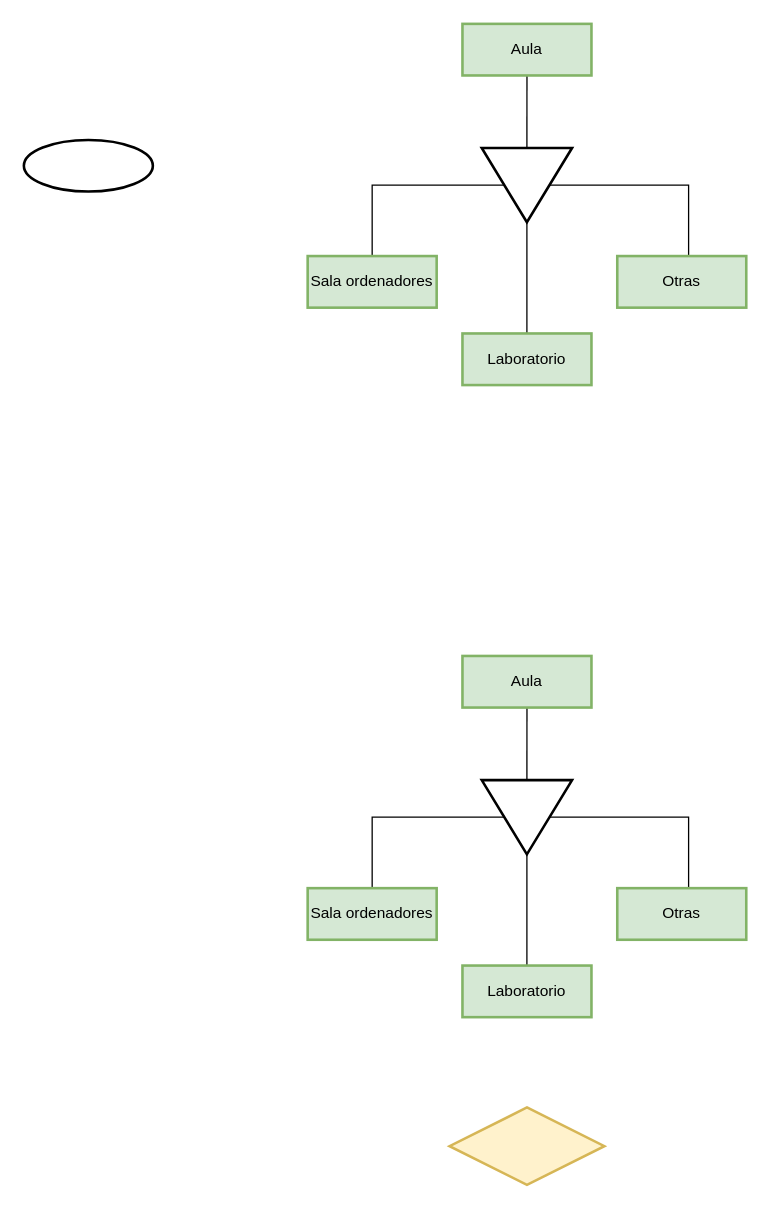
This 769x1207 diagram has some shape labels left out. The box of each missing label's shape, as (x1, y1, x2, y2) in pixels:
Attribute: (22, 138, 154, 192)
Relationship: (448, 1106, 605, 1186)
